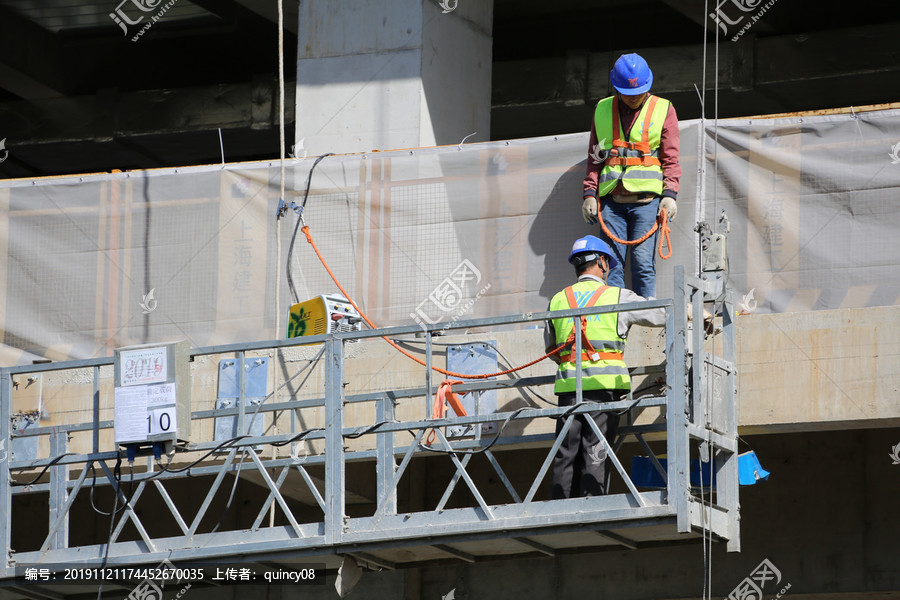safetyhat: (538, 229, 665, 486), (587, 46, 702, 277)
